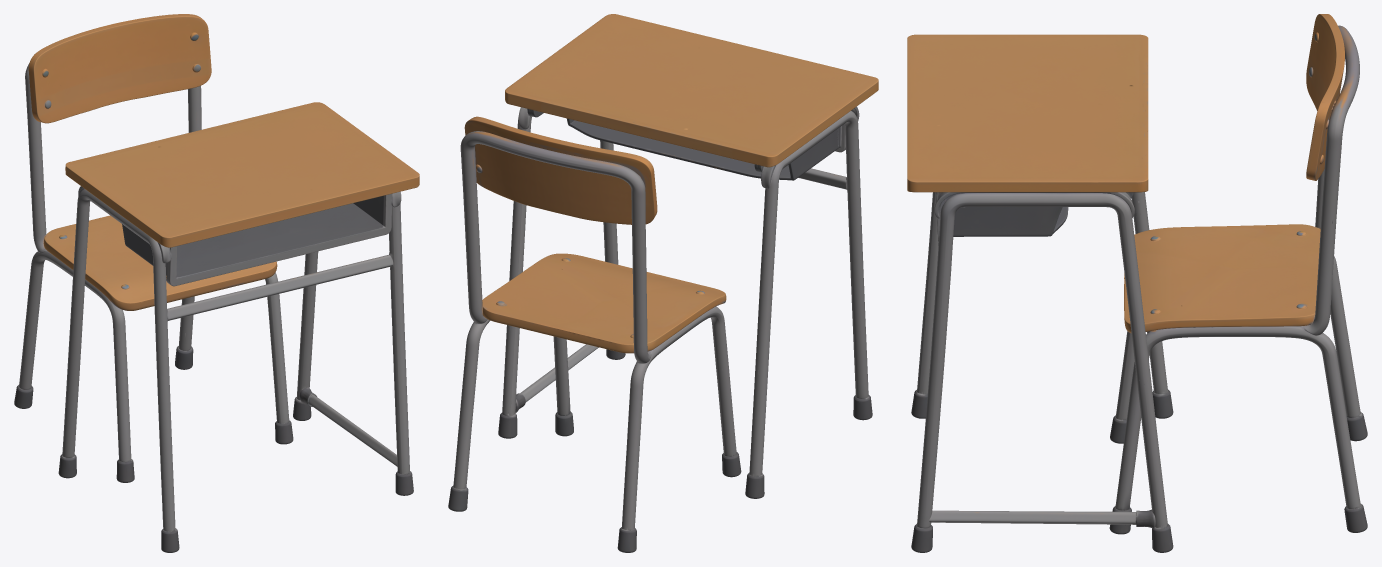
Rendered from school_desk_chair__hunyuan.glb.
3 views of the same model, side by side, from view 1: azimuth 30°, elevation 25°; view 2: azimuth 150°, elevation 25°; view 3: azimuth 270°, elevation 25° (orthographic). The views are drawn at different scales.
Visible parts, largest first — view 1: material; view 2: material; view 3: material.
Boxes of the visible parts, <box> form: material: <box>14,14,419,552</box>; material: <box>448,14,878,552</box>; material: <box>907,14,1367,552</box>.
Size of the model in its own units: 0.5783 by 0.7867 by 0.7621.
Materials: 1 (1 with a texture image).
